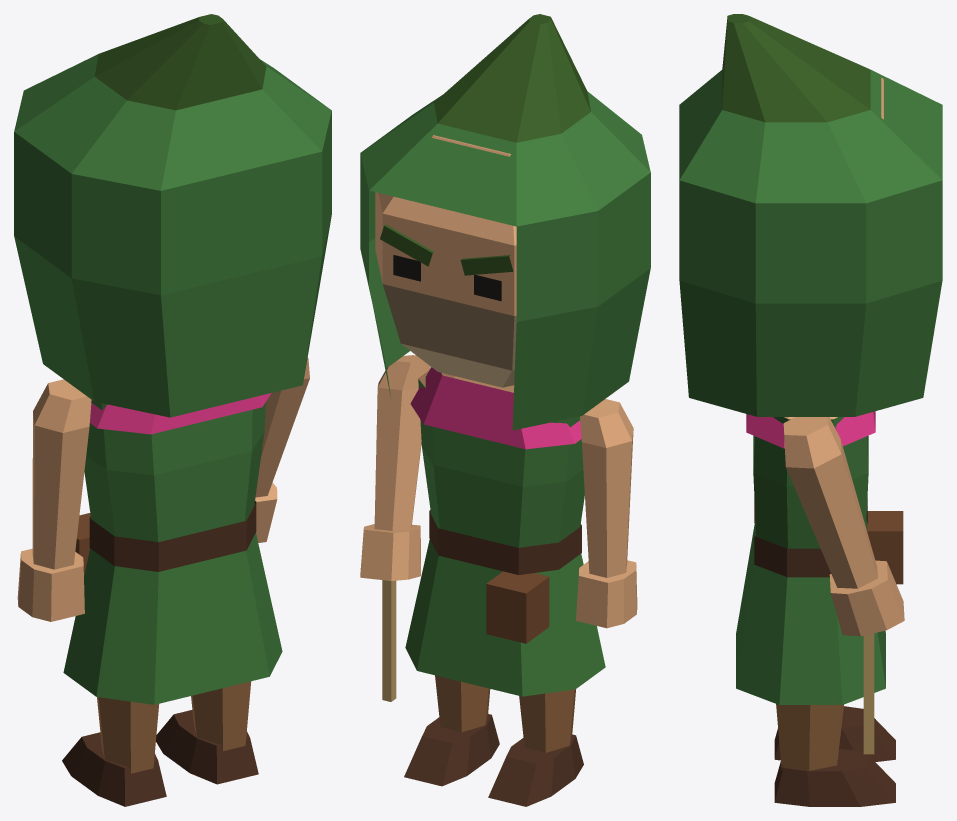
The model's file is EN_Slinger.fbx.
3 views of the same model, side by side, from view 1: azimuth 30°, elevation 25°; view 2: azimuth 150°, elevation 25°; view 3: azimuth 270°, elevation 25° (orthographic). The views are drawn at different scales.
Parts seen in each view (by area): view 1: Head, Body, ArmL, LegL, LegR, ArmR; view 2: Head, Body, ArmR, ArmL, LegL, LegR; view 3: Head, Body, ArmR, LegR, LegL.
Boxes of the visible parts, x1,y1,x2,y2 form: Head: (14, 14, 331, 417); Body: (63, 393, 282, 704); ArmL: (17, 379, 91, 621); LegL: (62, 697, 166, 806); LegR: (156, 681, 258, 784); ArmR: (255, 357, 309, 542); Head: (360, 14, 650, 430); Body: (405, 367, 605, 696); ArmR: (360, 355, 430, 701); ArmL: (576, 399, 637, 628); LegL: (488, 689, 583, 806); LegR: (404, 675, 499, 786); Head: (679, 14, 942, 416); Body: (736, 411, 903, 704); ArmR: (783, 417, 904, 754); LegR: (774, 704, 895, 806); LegL: (774, 706, 895, 761).
Bounding box in the file's own units: 0.5351 × 0.4551 × 1.44.
